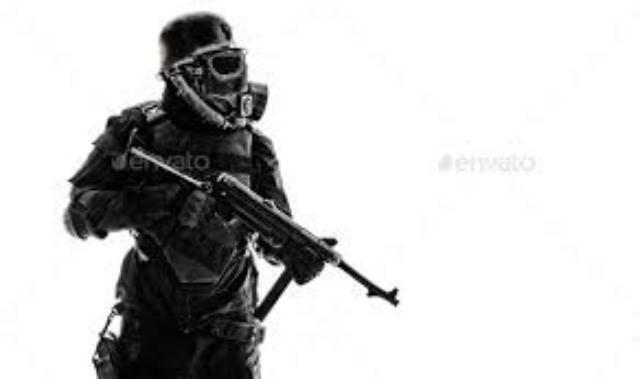other: (66, 15, 324, 378)
